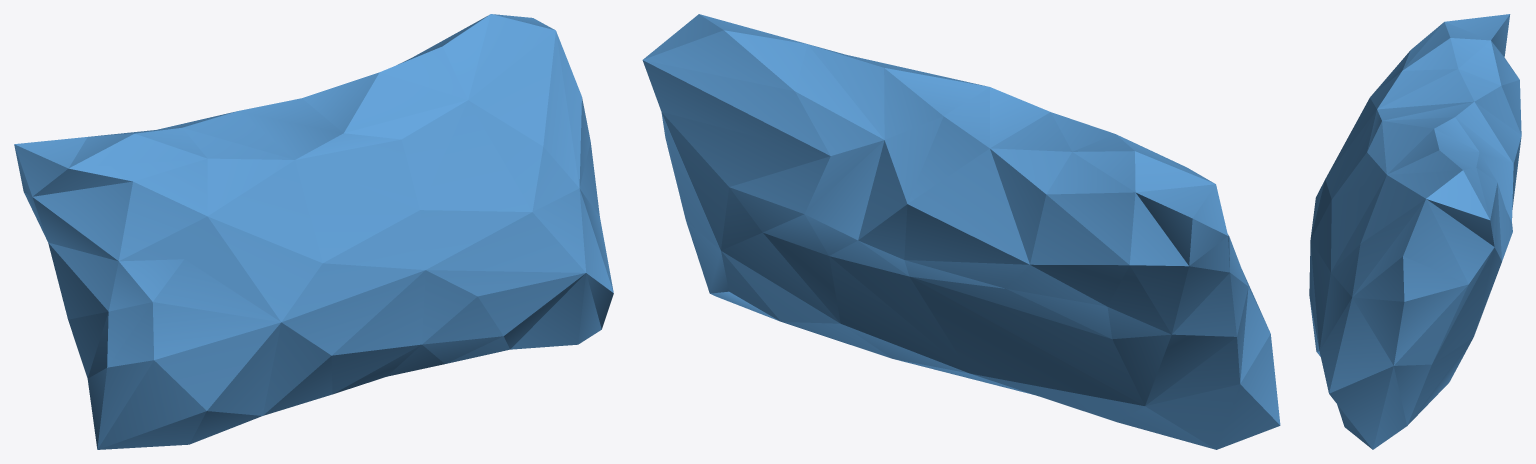
The model's file is sofa_pillow2.fbx.
3 renders of one model, left to right at view 1: azimuth 30°, elevation 25°; view 2: azimuth 150°, elevation 25°; view 3: azimuth 270°, elevation 25°, orthographic. The views are drawn at different scales.
Visible parts, largest first — view 1: sofa_pillow2; view 2: sofa_pillow2; view 3: sofa_pillow2.
Part boxes in pixels (x1,y1,x2,y2): sofa_pillow2: (14, 14, 613, 449); sofa_pillow2: (642, 14, 1280, 449); sofa_pillow2: (1309, 14, 1521, 449).
Bounding box in the file's own units: 381 × 210 × 153.
